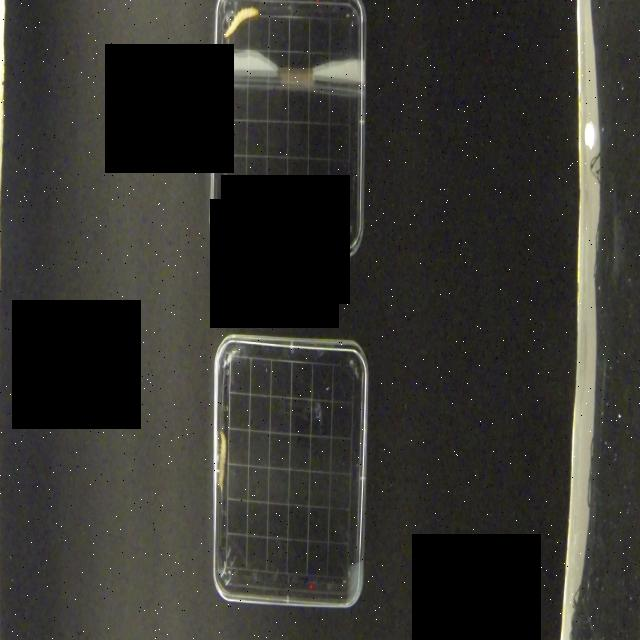larva: (223, 5, 259, 38), (217, 431, 228, 496)
